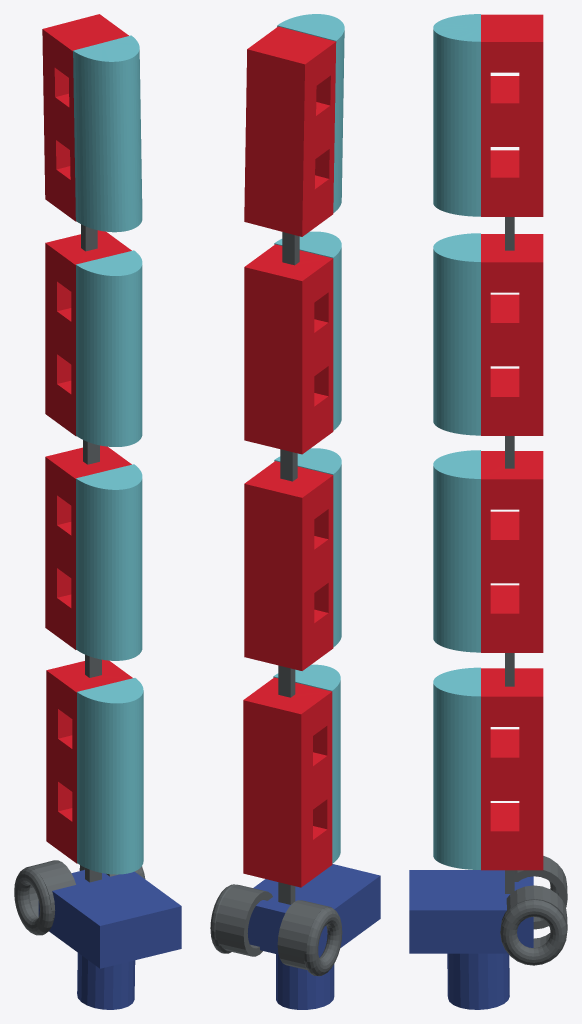
File: tinker.obj
3 renders of one model, left to right at view 1: azimuth 30°, elevation 25°; view 2: azimuth 150°, elevation 25°; view 3: azimuth 270°, elevation 25°, orthographic.
Visible parts, largest first — view 1: group_0_7720667, group_0_15277357, group_0_3888547, group_0_6383466; view 2: group_0_15277357, group_0_7720667, group_0_6383466, group_0_3888547; view 3: group_0_15277357, group_0_7720667, group_0_3888547, group_0_6383466.
Boxes of the visible parts, <box> form: group_0_7720667: <box>73,35,143,874</box>; group_0_15277357: <box>42,14,132,863</box>; group_0_3888547: <box>38,870,181,1009</box>; group_0_6383466: <box>14,224,145,935</box>; group_0_15277357: <box>243,26,336,887</box>; group_0_7720667: <box>273,14,344,863</box>; group_0_6383466: <box>210,232,342,976</box>; group_0_3888547: <box>247,864,380,1009</box>; group_0_15277357: <box>481,14,543,870</box>; group_0_7720667: <box>433,14,480,869</box>; group_0_3888547: <box>409,870,533,1009</box>; group_0_6383466: <box>500,217,567,965</box>.
Bounding box in the file's own units: 25.7 × 223 × 33.09.
